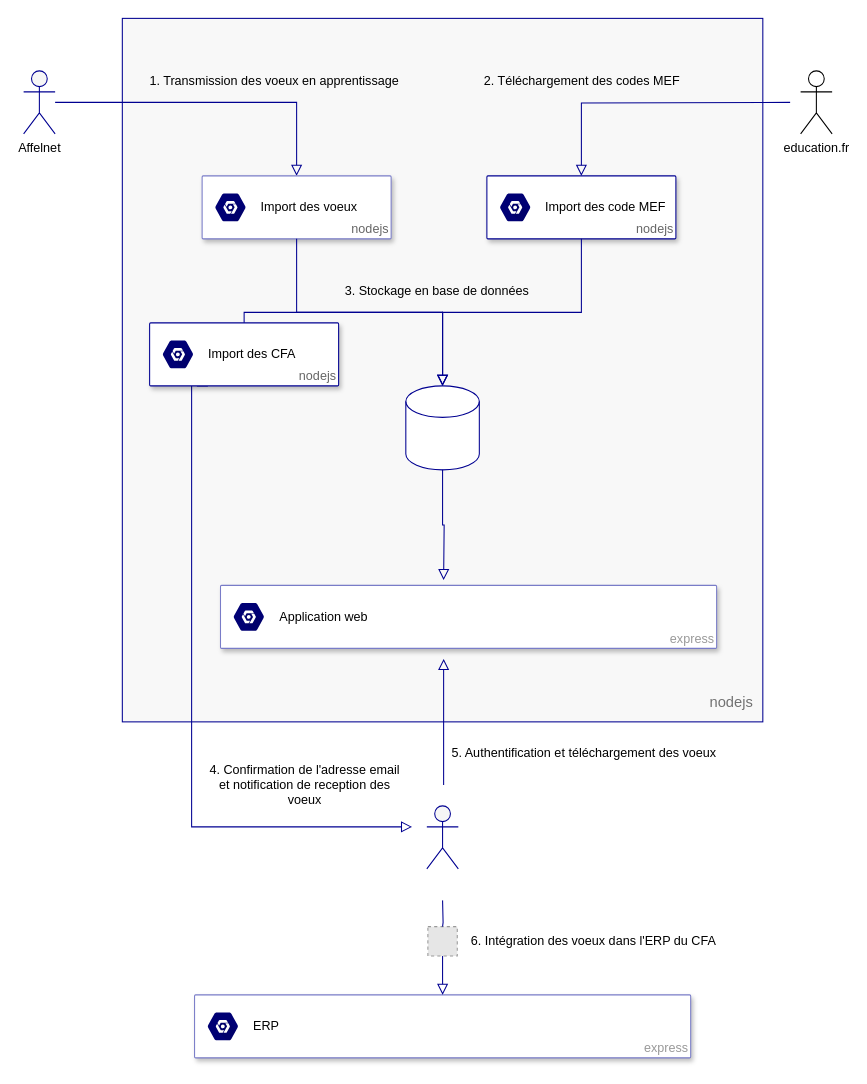
Some shapes in this 867 by 1084 pixel diagram are drawn without their labels. Grey dashed boxes stand in for pictures. The centre of each missing label's shape, as x and y in pixels:
CFA: point (442, 837)
MongoDB: point (442, 427)
